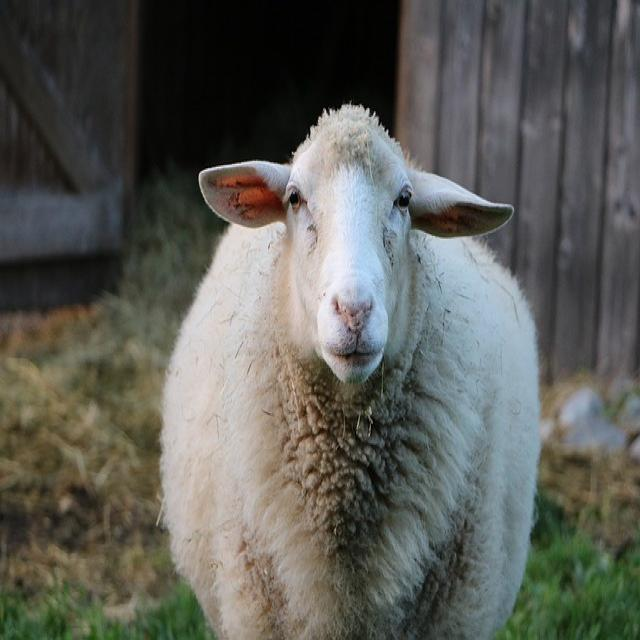goat: (159, 104, 542, 640)
